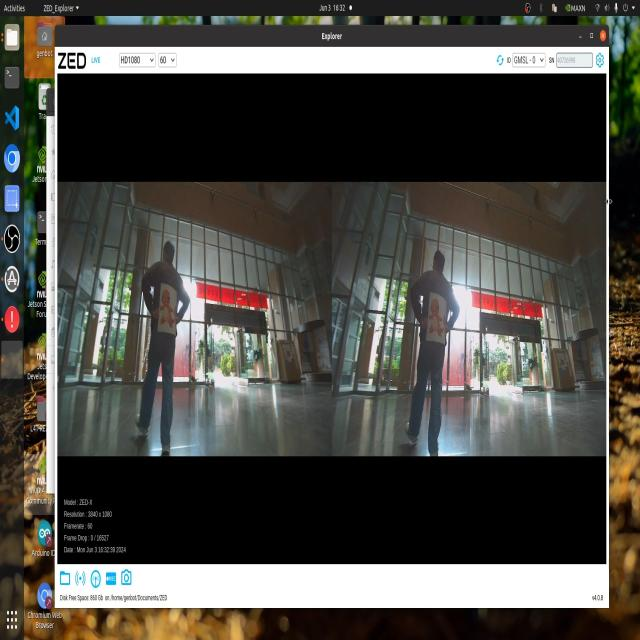red: (416, 300, 448, 352), (154, 286, 181, 341)
